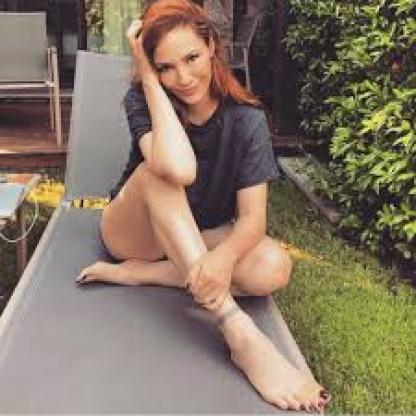person: (130, 0, 236, 113)
